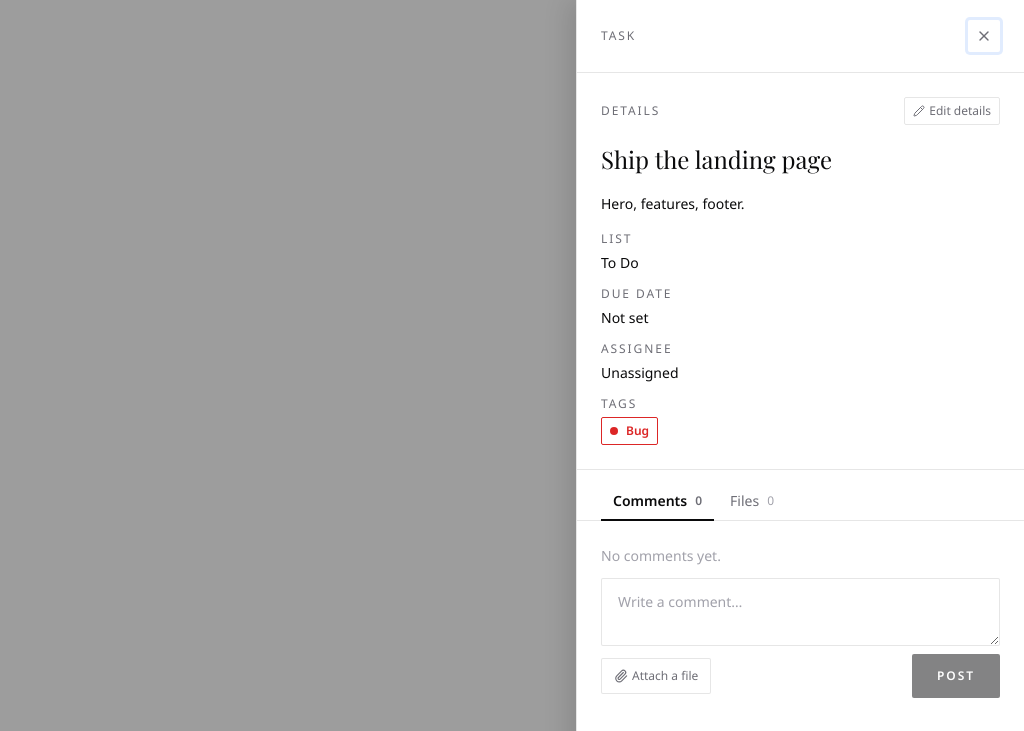
Test: TaskDetailPanel › saves edits through updateTaskAction and returns to read-only
The image size is (1024, 731).
Click the button "Edit details".
click(952, 111)  # box [904, 97, 1000, 125]
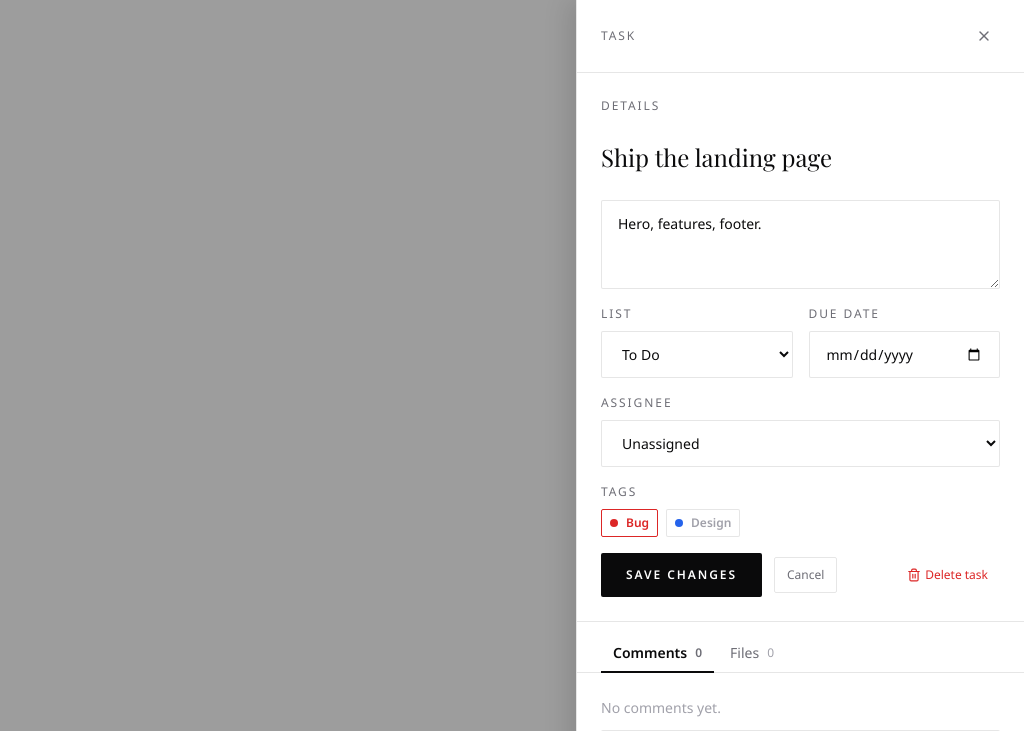
Replace the text in the field named "Task title" with "Ship it" at (800, 158), box [601, 131, 1000, 184]
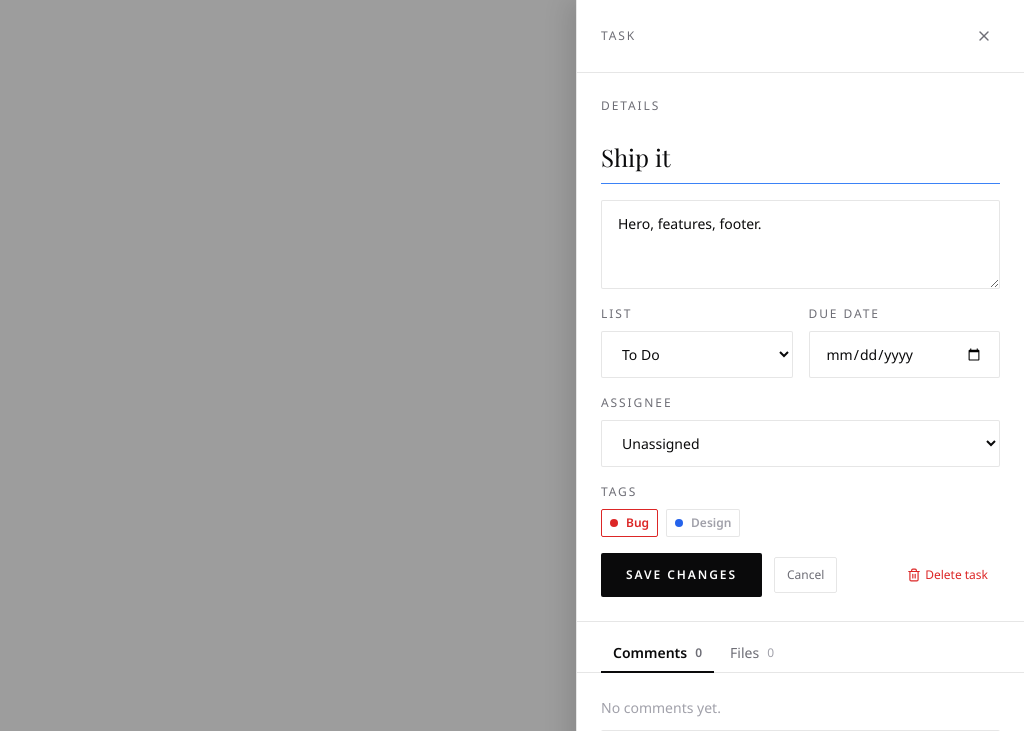
Click the button "Save changes".
click(681, 575)  # box [601, 553, 762, 597]
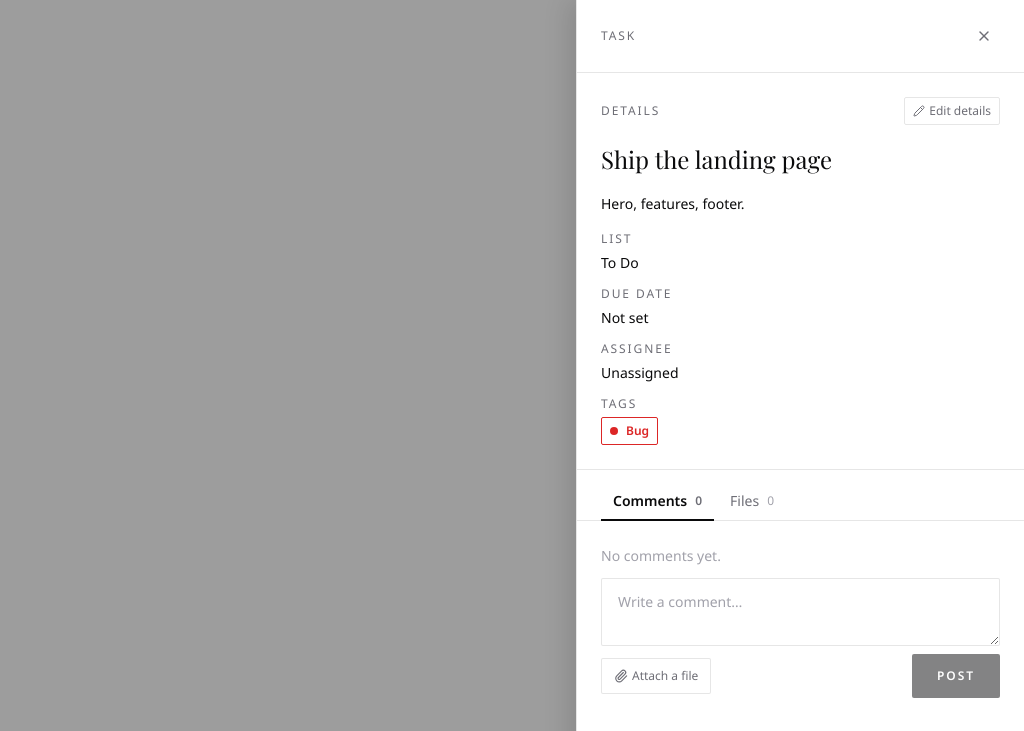
Result: the button "Save changes" is gone
